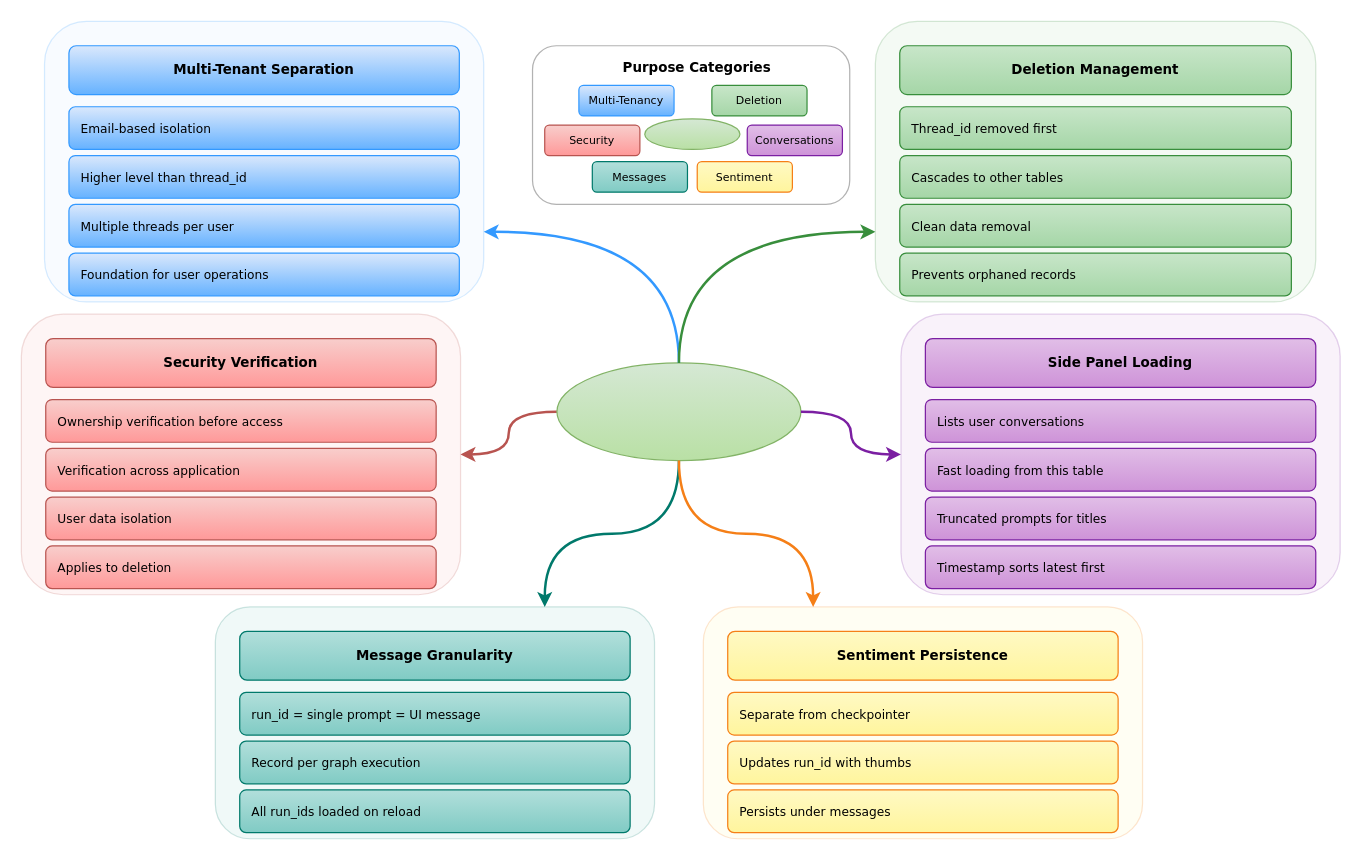
Image size: 1362x860. Some labels were removed from this diagram. Here are the shapes that lost their labels. From the top down, the centre of each, then its label:
At (x=692, y=133): "Table".
At (x=678, y=411): "users_threads_runs".
